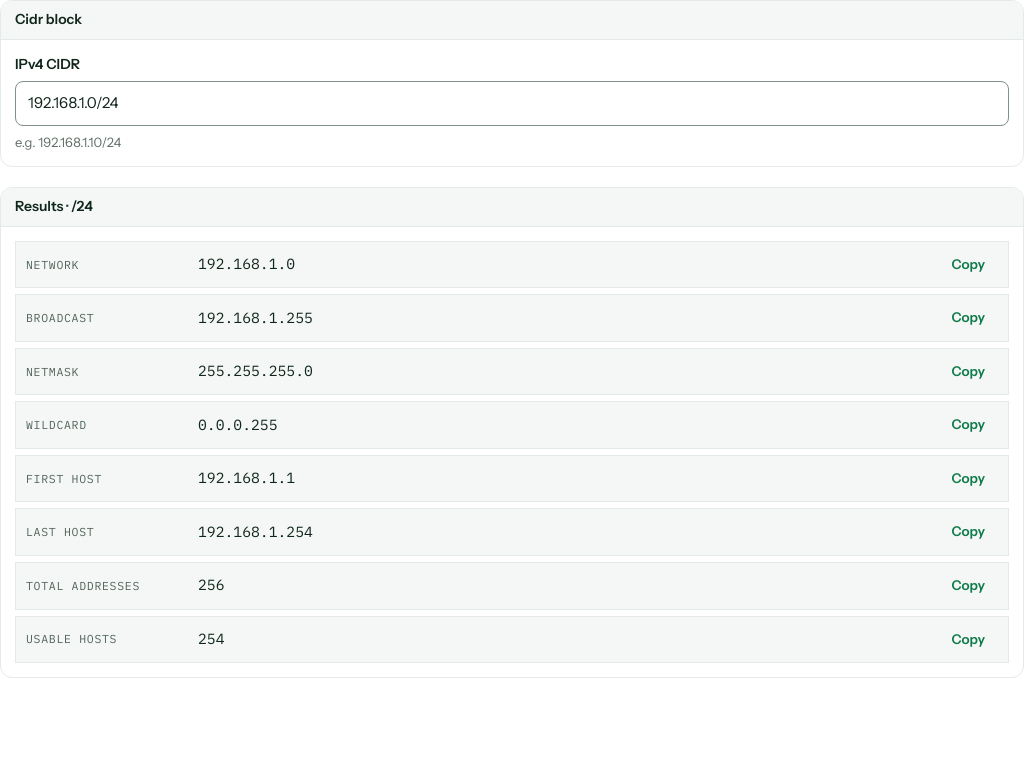
Scenario: CidrCalculator › errors on a prefix over 32
The width and height of the screenshot is (1024, 768).
Replace the text in the field with placeholder "192.168.1.10/24" with "10.0.0.0/40" at (512, 104), box x1=15 y1=81 x2=1009 y2=126
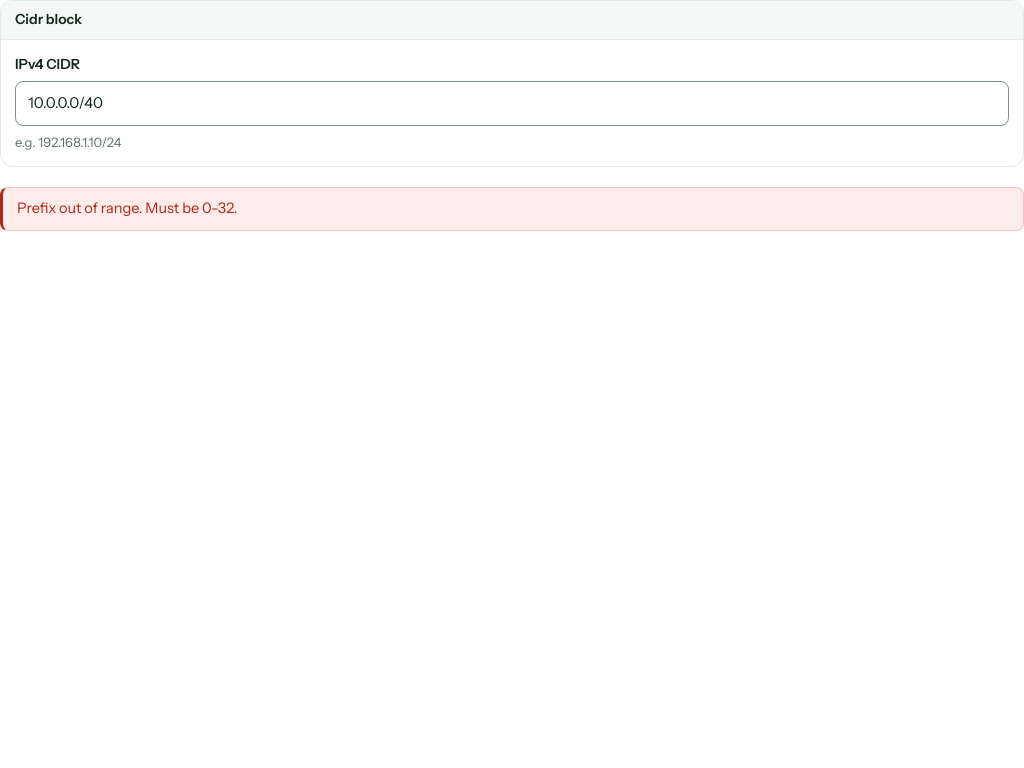
Check: the text "Prefix out of range. Must be 0-32." is shown, box x1=0 y1=187 x2=1023 y2=231
